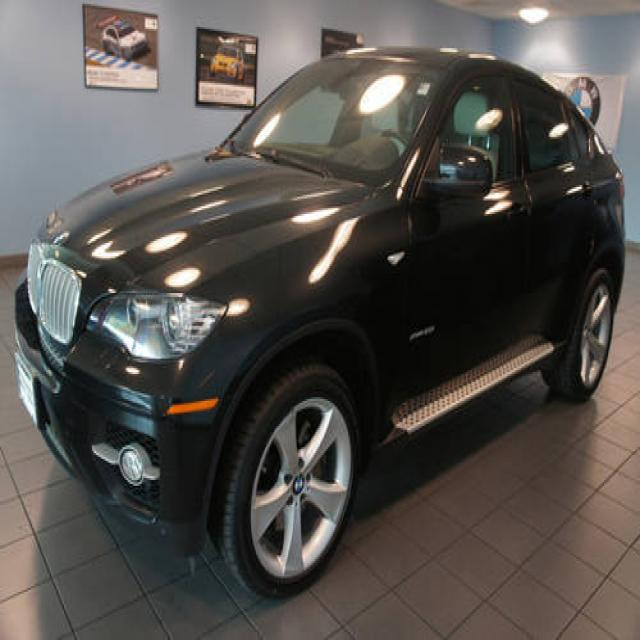car: (11, 38, 628, 600)
